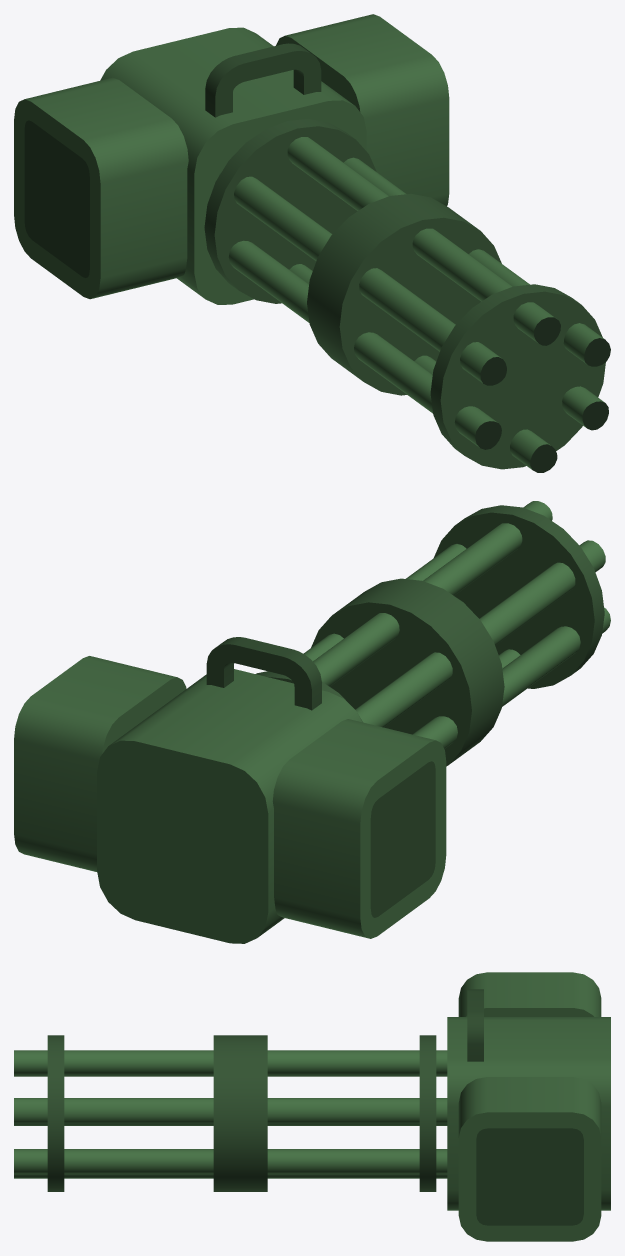
Rendered from Machinegun B.fbx.
3 views of the same model, one above another, from view 1: azimuth 30°, elevation 25°; view 2: azimuth 150°, elevation 25°; view 3: azimuth 270°, elevation 25° (orthographic). The views are drawn at different scales.
Visible parts, largest first — view 1: Machinegun B.001, Machinegun B.002, Machinegun B; view 2: Machinegun B.002, Machinegun B, Machinegun B.001; view 3: Machinegun B.001, Machinegun B.002, Machinegun B.
Boxes of the visible parts, x1,y1,x2,y2 form: Machinegun B.001: (204, 118, 610, 472); Machinegun B.002: (14, 14, 449, 299); Machinegun B: (100, 27, 366, 304); Machinegun B.002: (14, 656, 446, 938); Machinegun B: (97, 637, 361, 943); Machinegun B.001: (256, 501, 610, 766); Machinegun B.001: (14, 1035, 447, 1191); Machinegun B.002: (458, 972, 601, 1241); Machinegun B: (447, 989, 610, 1210).
Size of the model in its own units: 1.07 by 0.6658 by 1.93.
